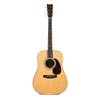guitar: (32, 4, 68, 96)
